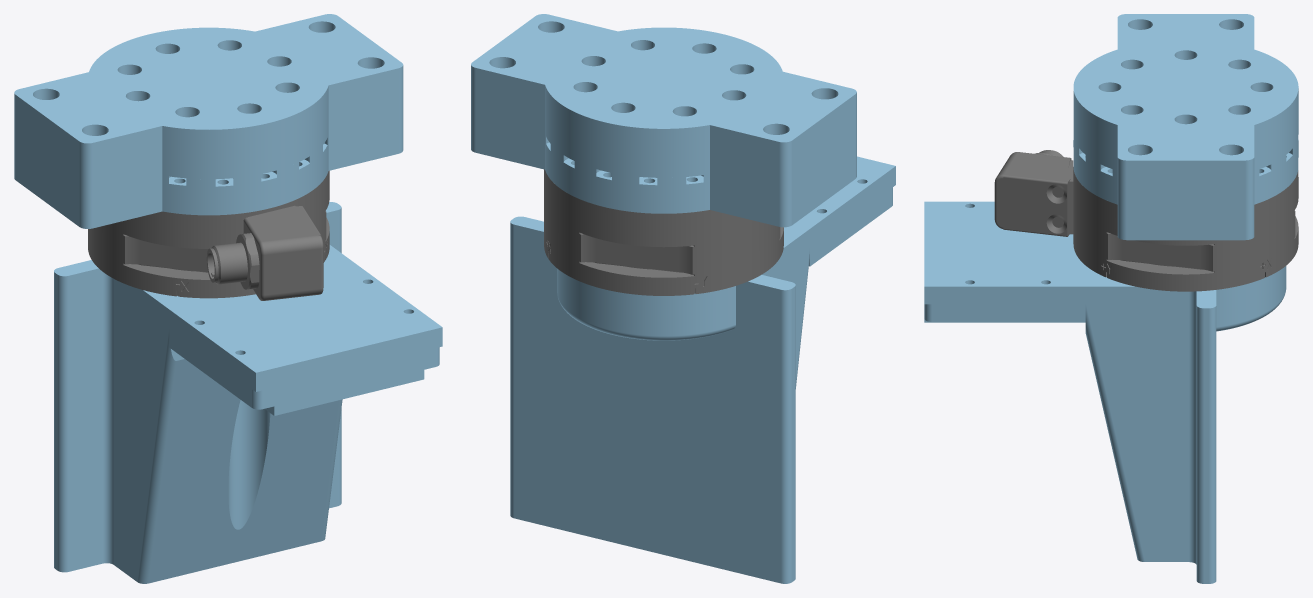
Rendered from FTSensorPlusWiderLineEndEffector.dae.
3 renders of one model, left to right at view 1: azimuth 30°, elevation 25°; view 2: azimuth 150°, elevation 25°; view 3: azimuth 270°, elevation 25°, orthographic. The views are drawn at different scales.
Parts seen in each view (by area): view 1: end-effector-v4, ft-mount-robot-side, ft-mount-sensor-side, Part 1, Part 2, apriltag-mounting-plate-v2; view 2: end-effector-v4, ft-mount-robot-side, Part 1, ft-mount-sensor-side, apriltag-mounting-plate-v2; view 3: end-effector-v4, ft-mount-robot-side, Part 1, ft-mount-sensor-side, Part 2, apriltag-mounting-plate-v2.
Part boxes in pixels (left/top/right/bottom): end-effector-v4: left=54, top=202, right=442, bottom=583; ft-mount-robot-side: left=14, top=14, right=403, bottom=192; ft-mount-sensor-side: left=14, top=115, right=403, bottom=228; Part 1: left=88, top=170, right=329, bottom=298; Part 2: left=206, top=205, right=323, bottom=300; apriltag-mounting-plate-v2: left=169, top=329, right=439, bottom=415; end-effector-v4: left=510, top=156, right=895, bottom=583; ft-mount-robot-side: left=471, top=14, right=856, bottom=191; Part 1: left=544, top=169, right=783, bottom=295; ft-mount-sensor-side: left=471, top=114, right=856, bottom=227; apriltag-mounting-plate-v2: left=809, top=187, right=892, bottom=266; end-effector-v4: left=924, top=201, right=1286, bottom=583; ft-mount-robot-side: left=1073, top=14, right=1298, bottom=206; Part 1: left=1073, top=167, right=1298, bottom=291; ft-mount-sensor-side: left=1073, top=137, right=1298, bottom=240; Part 2: left=994, top=150, right=1073, bottom=236; apriltag-mounting-plate-v2: left=924, top=304, right=1085, bottom=322.
Bounding box in the file's own units: 0.114 × 0.123 × 0.1569.
